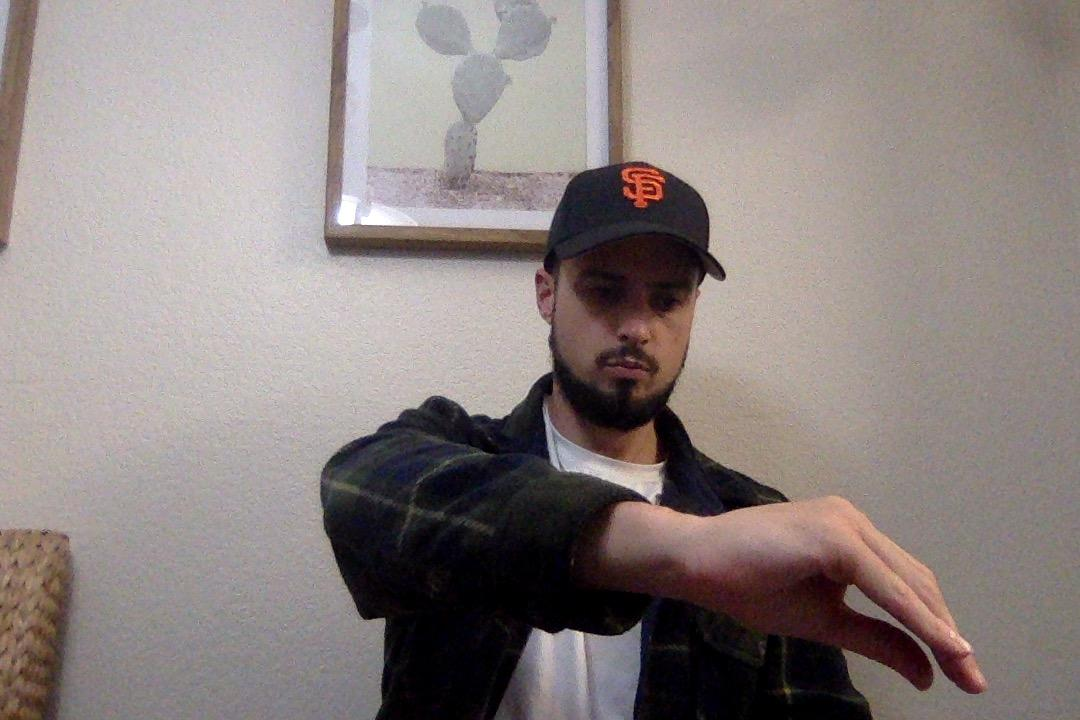Pinched-Fingers: (675, 470, 994, 707)
